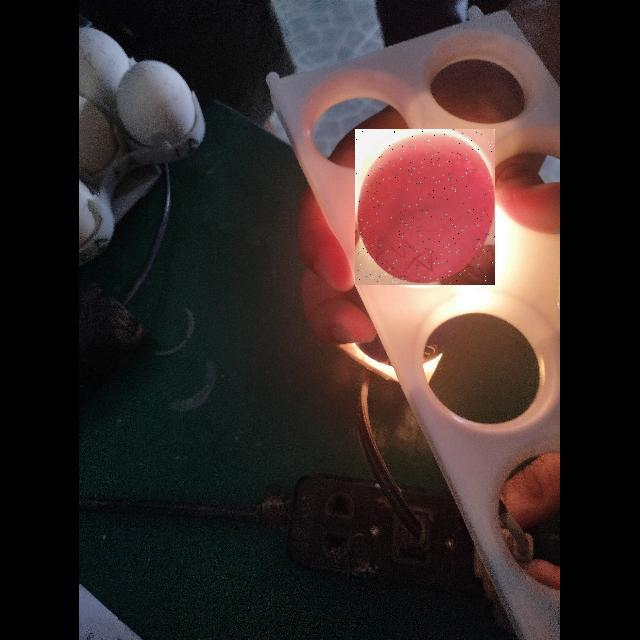Infertile: (355, 129, 495, 285)
